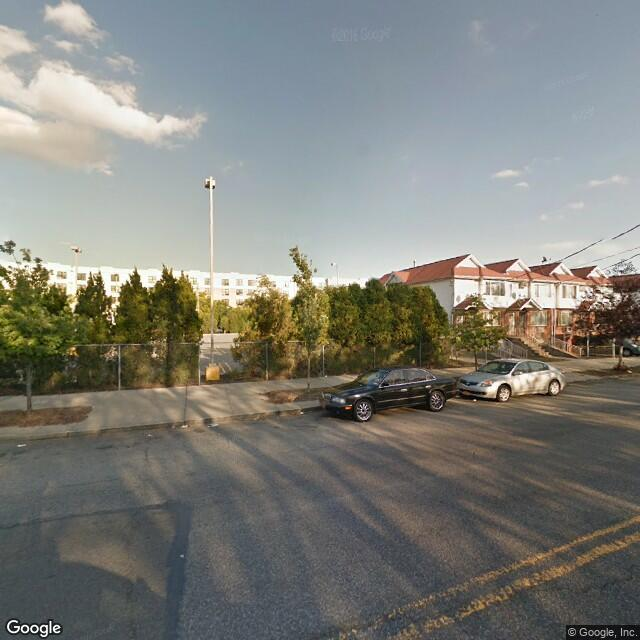litter: (206, 425, 219, 430), (16, 441, 25, 448), (323, 374, 333, 379), (179, 425, 189, 429), (626, 367, 632, 373), (299, 411, 305, 414), (471, 397, 475, 401), (146, 432, 151, 435), (179, 549, 180, 560), (454, 394, 459, 396)
